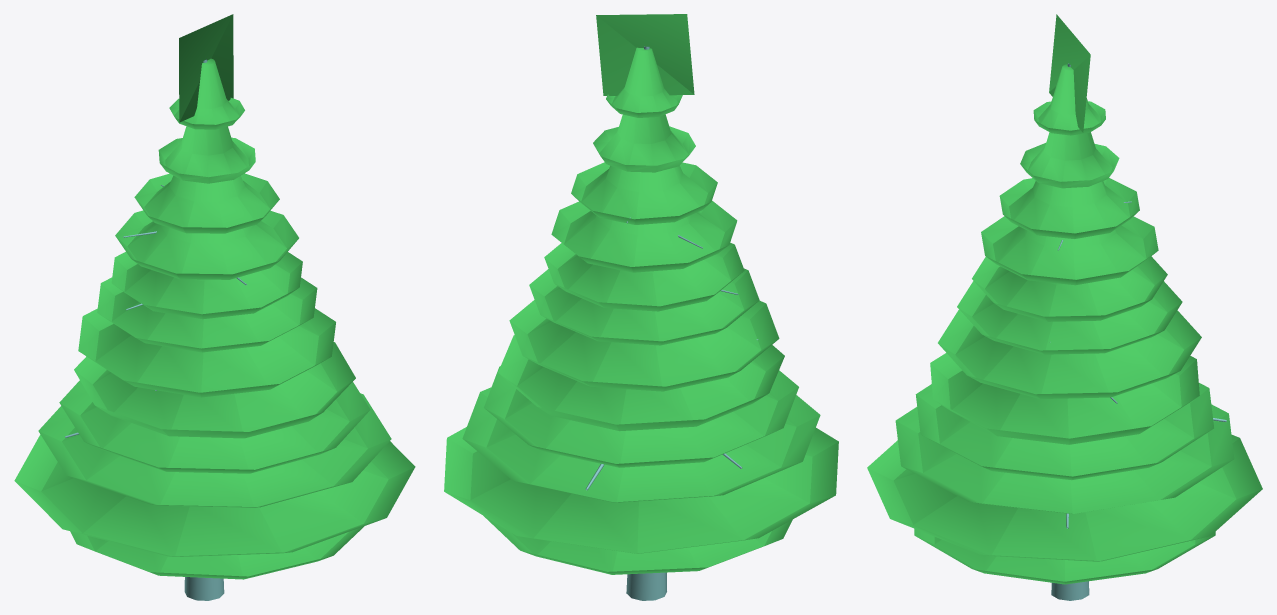
Rendered from TreeChristmas1.fbx.
3 renders of one model, left to right at view 1: azimuth 30°, elevation 25°; view 2: azimuth 150°, elevation 25°; view 3: azimuth 270°, elevation 25°, orthographic. The views are drawn at different scales.
Parts seen in each view (by area): view 1: furTree_lod0; view 2: furTree_lod0; view 3: furTree_lod0.
Part boxes in pixels (box(x1,y1,x2,y2)): furTree_lod0: box(14, 14, 415, 600); furTree_lod0: box(444, 14, 838, 600); furTree_lod0: box(867, 14, 1262, 600).
Size of the model in its own units: 358 by 567 by 361.
